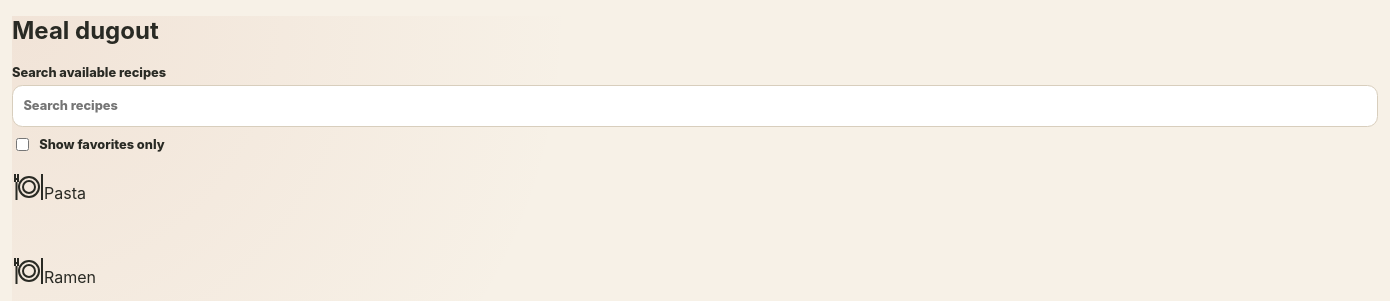
Test: MealDugout › filters recipes by name or tag
Type "italian" into the search field labelled "Search available recipes" at (695, 106), box top-left (12, 85), bottom-right (1378, 127)
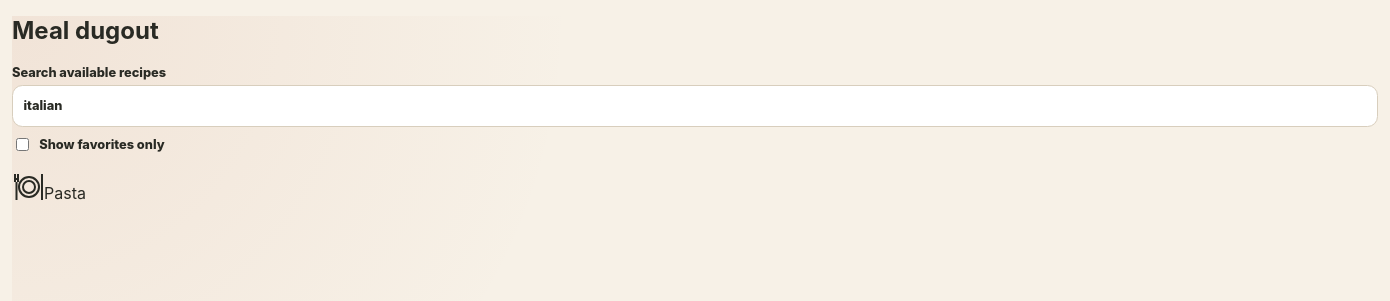
Expected: the text "Pasta" is shown, top-left (44, 183), bottom-right (86, 203)
Expected: the button "Ramen" is gone
